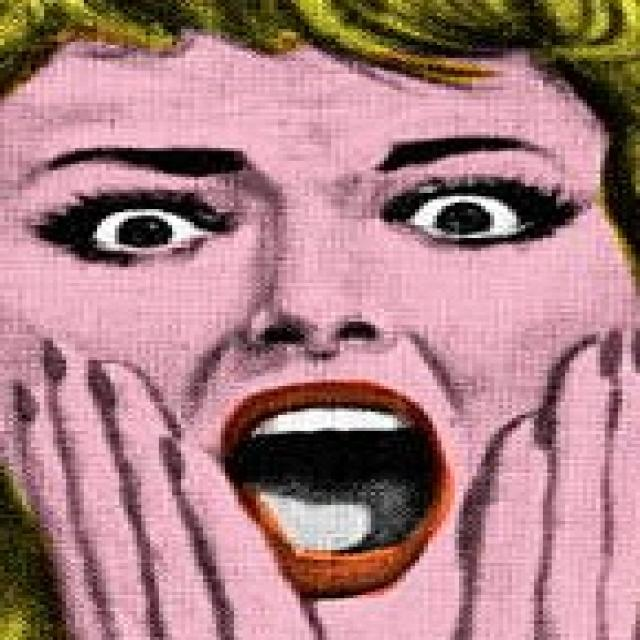Anxiety: (4, 42, 640, 637)
